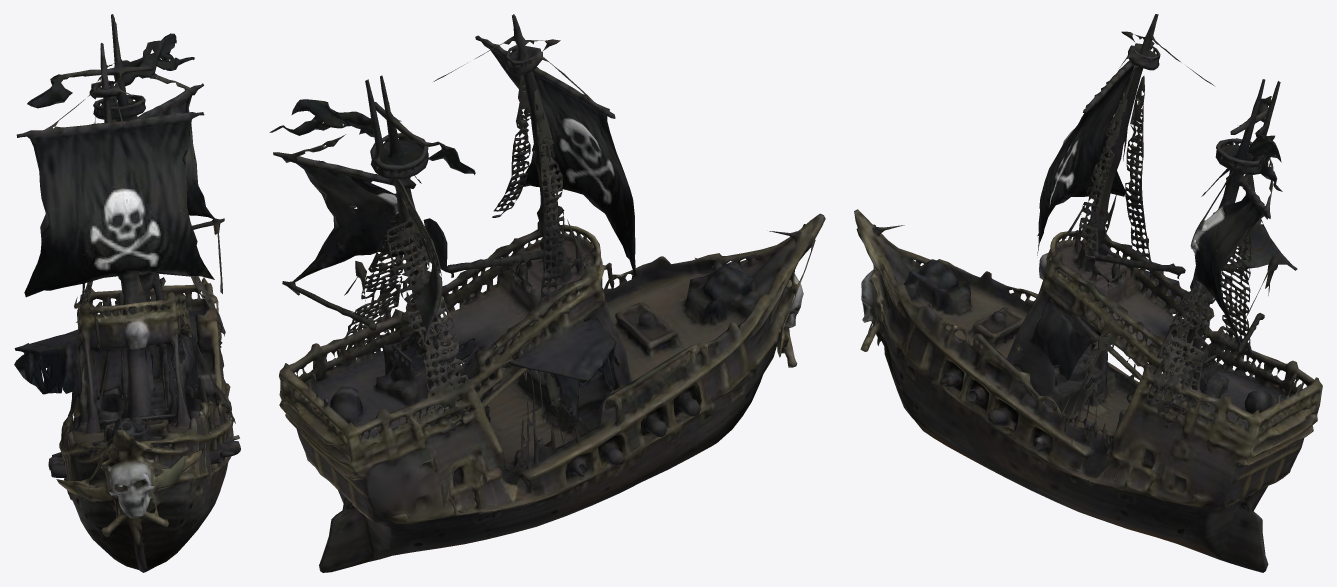
Rendered from barnacle_broadside.glb.
The picture shows the model from 3 angles, left to right: view 1: azimuth 30°, elevation 25°; view 2: azimuth 150°, elevation 25°; view 3: azimuth 270°, elevation 25°; orthographic projection. The views are drawn at different scales.
Size of the model in its own units: 0.6273 by 0.9524 by 0.8089.
1 material, 1 textured.
